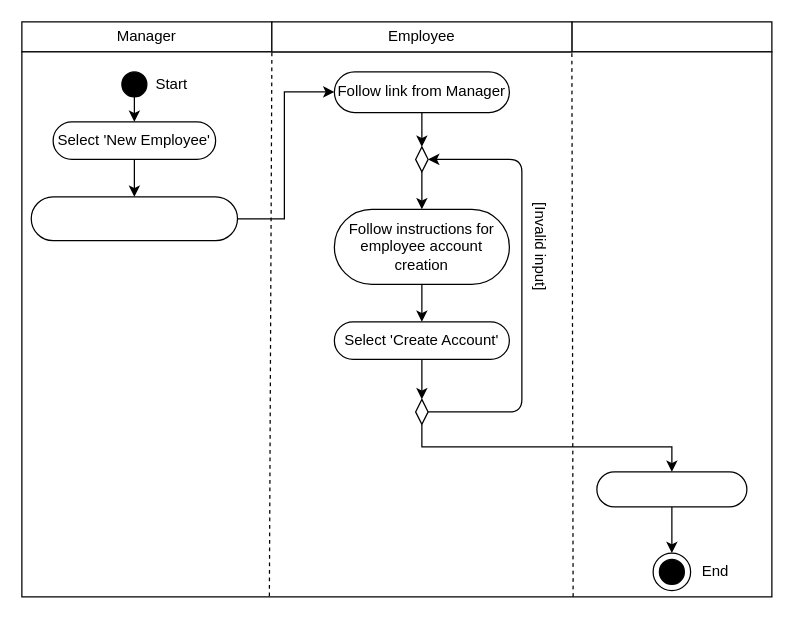
This 794x620 diagram has some shape labels left out. The shapes that lost their labels are listed below. From the top down, each one's centre as x and y in pixels, then its label:
pixel 671 36: Database
pixel 134 218: Send link to new Employee
pixel 671 489: Update Database
